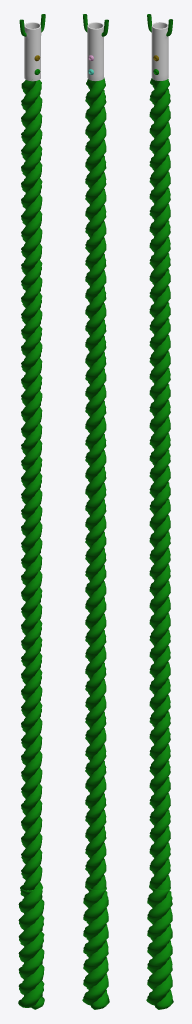
File: elongated_rope.obj
3 renders of one model, left to right at view 1: azimuth 30°, elevation 25°; view 2: azimuth 150°, elevation 25°; view 3: azimuth 330°, elevation 25°, orthographic.
Visible parts, largest first — view 1: OBJ.001; view 2: OBJ.001; view 3: OBJ.001.
Part boxes in pixels (bbox=[...]): OBJ.001: bbox=[18, 14, 45, 1009]; OBJ.001: bbox=[82, 14, 109, 1009]; OBJ.001: bbox=[146, 14, 173, 1009].
Bounding box in the file's own units: 5.04 × 186 × 4.67.
